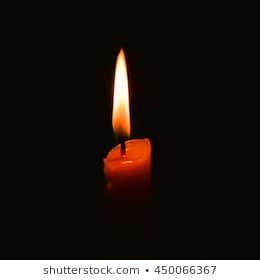Fire: (111, 46, 134, 145)
